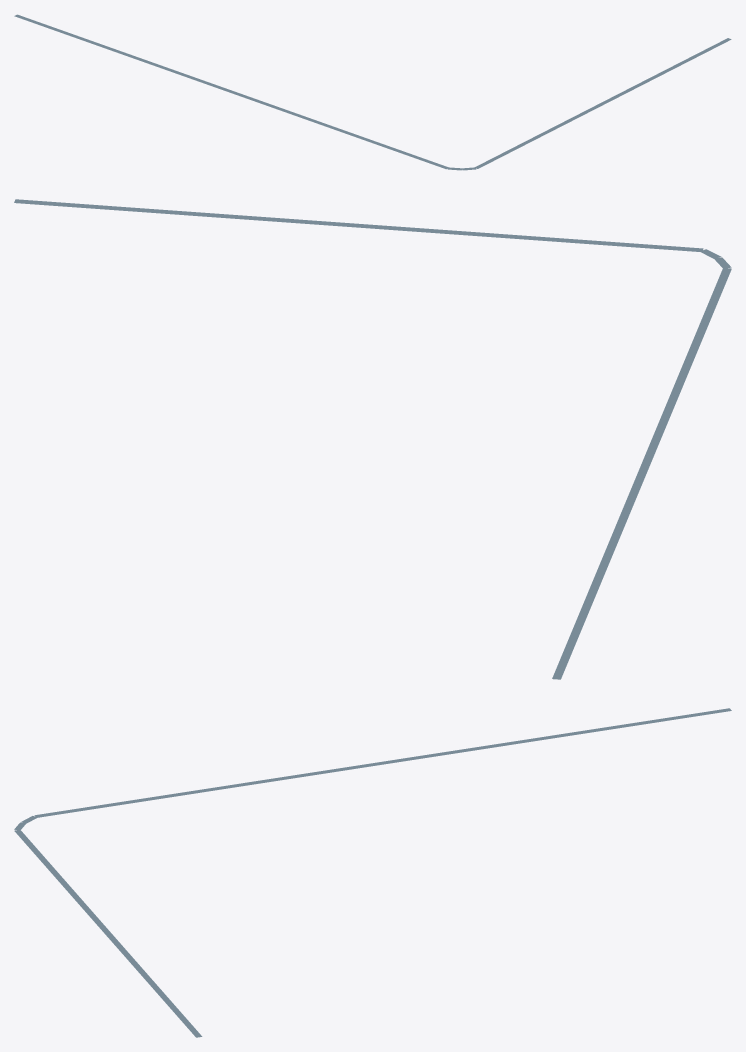
3 renders of one model, top to bottom at view 1: azimuth 30°, elevation 25°; view 2: azimuth 150°, elevation 25°; view 3: azimuth 270°, elevation 25°, orthographic. The views are drawn at different scales.
Size of the model in its own units: 461 by 0 by 424.
